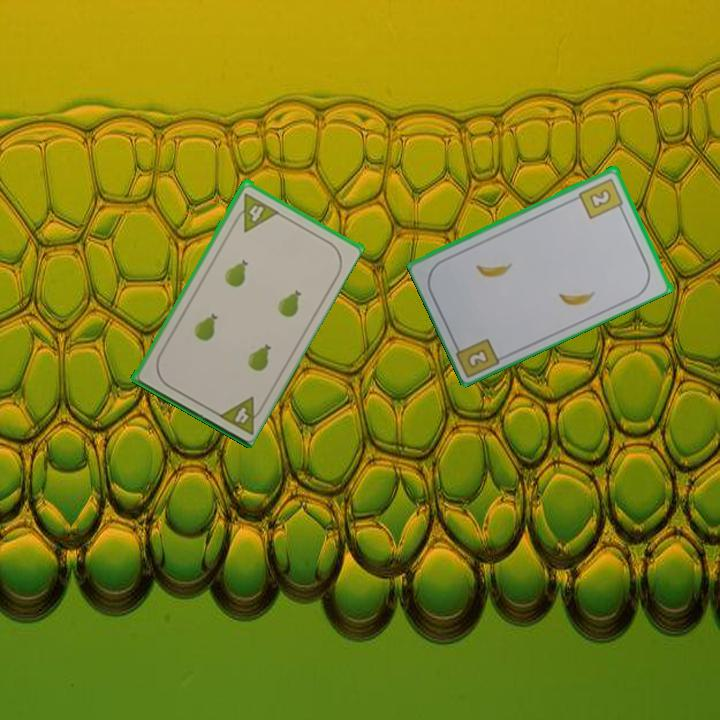2b: (576, 174, 627, 221), (466, 345, 492, 368)
4p: (214, 392, 268, 437), (229, 189, 281, 234)
